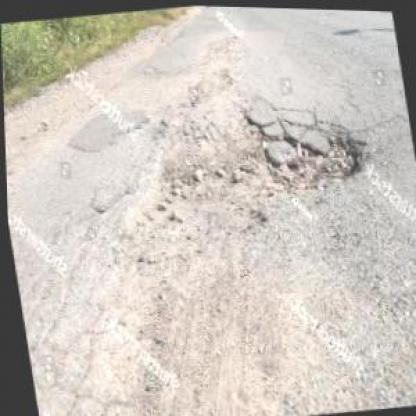pothole: (244, 91, 373, 197)
